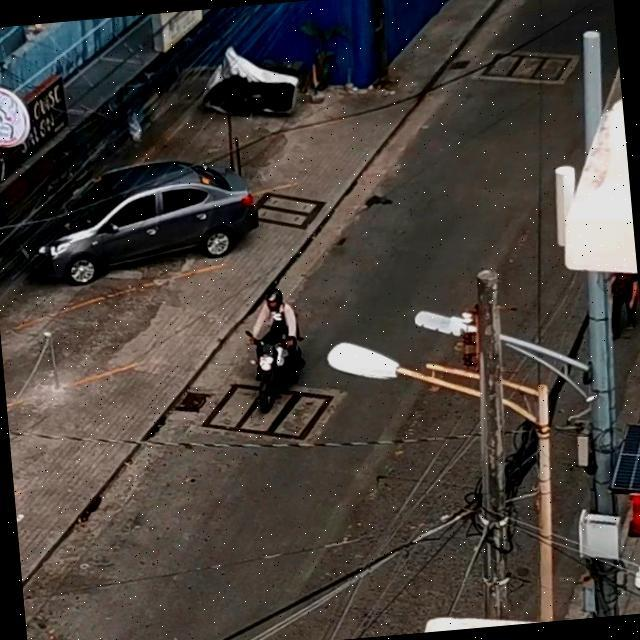Motorcycle: (247, 304, 306, 414)
